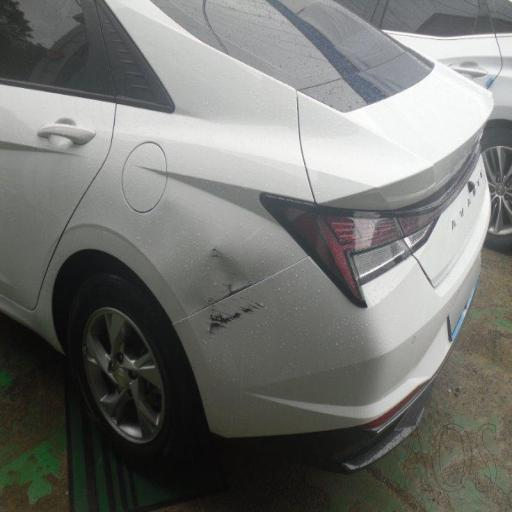dent: (179, 225, 296, 357)
